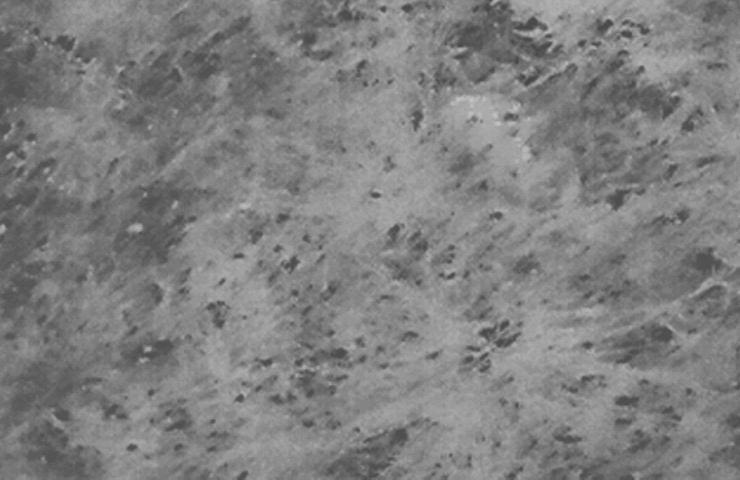landmines: (441, 87, 504, 151)
